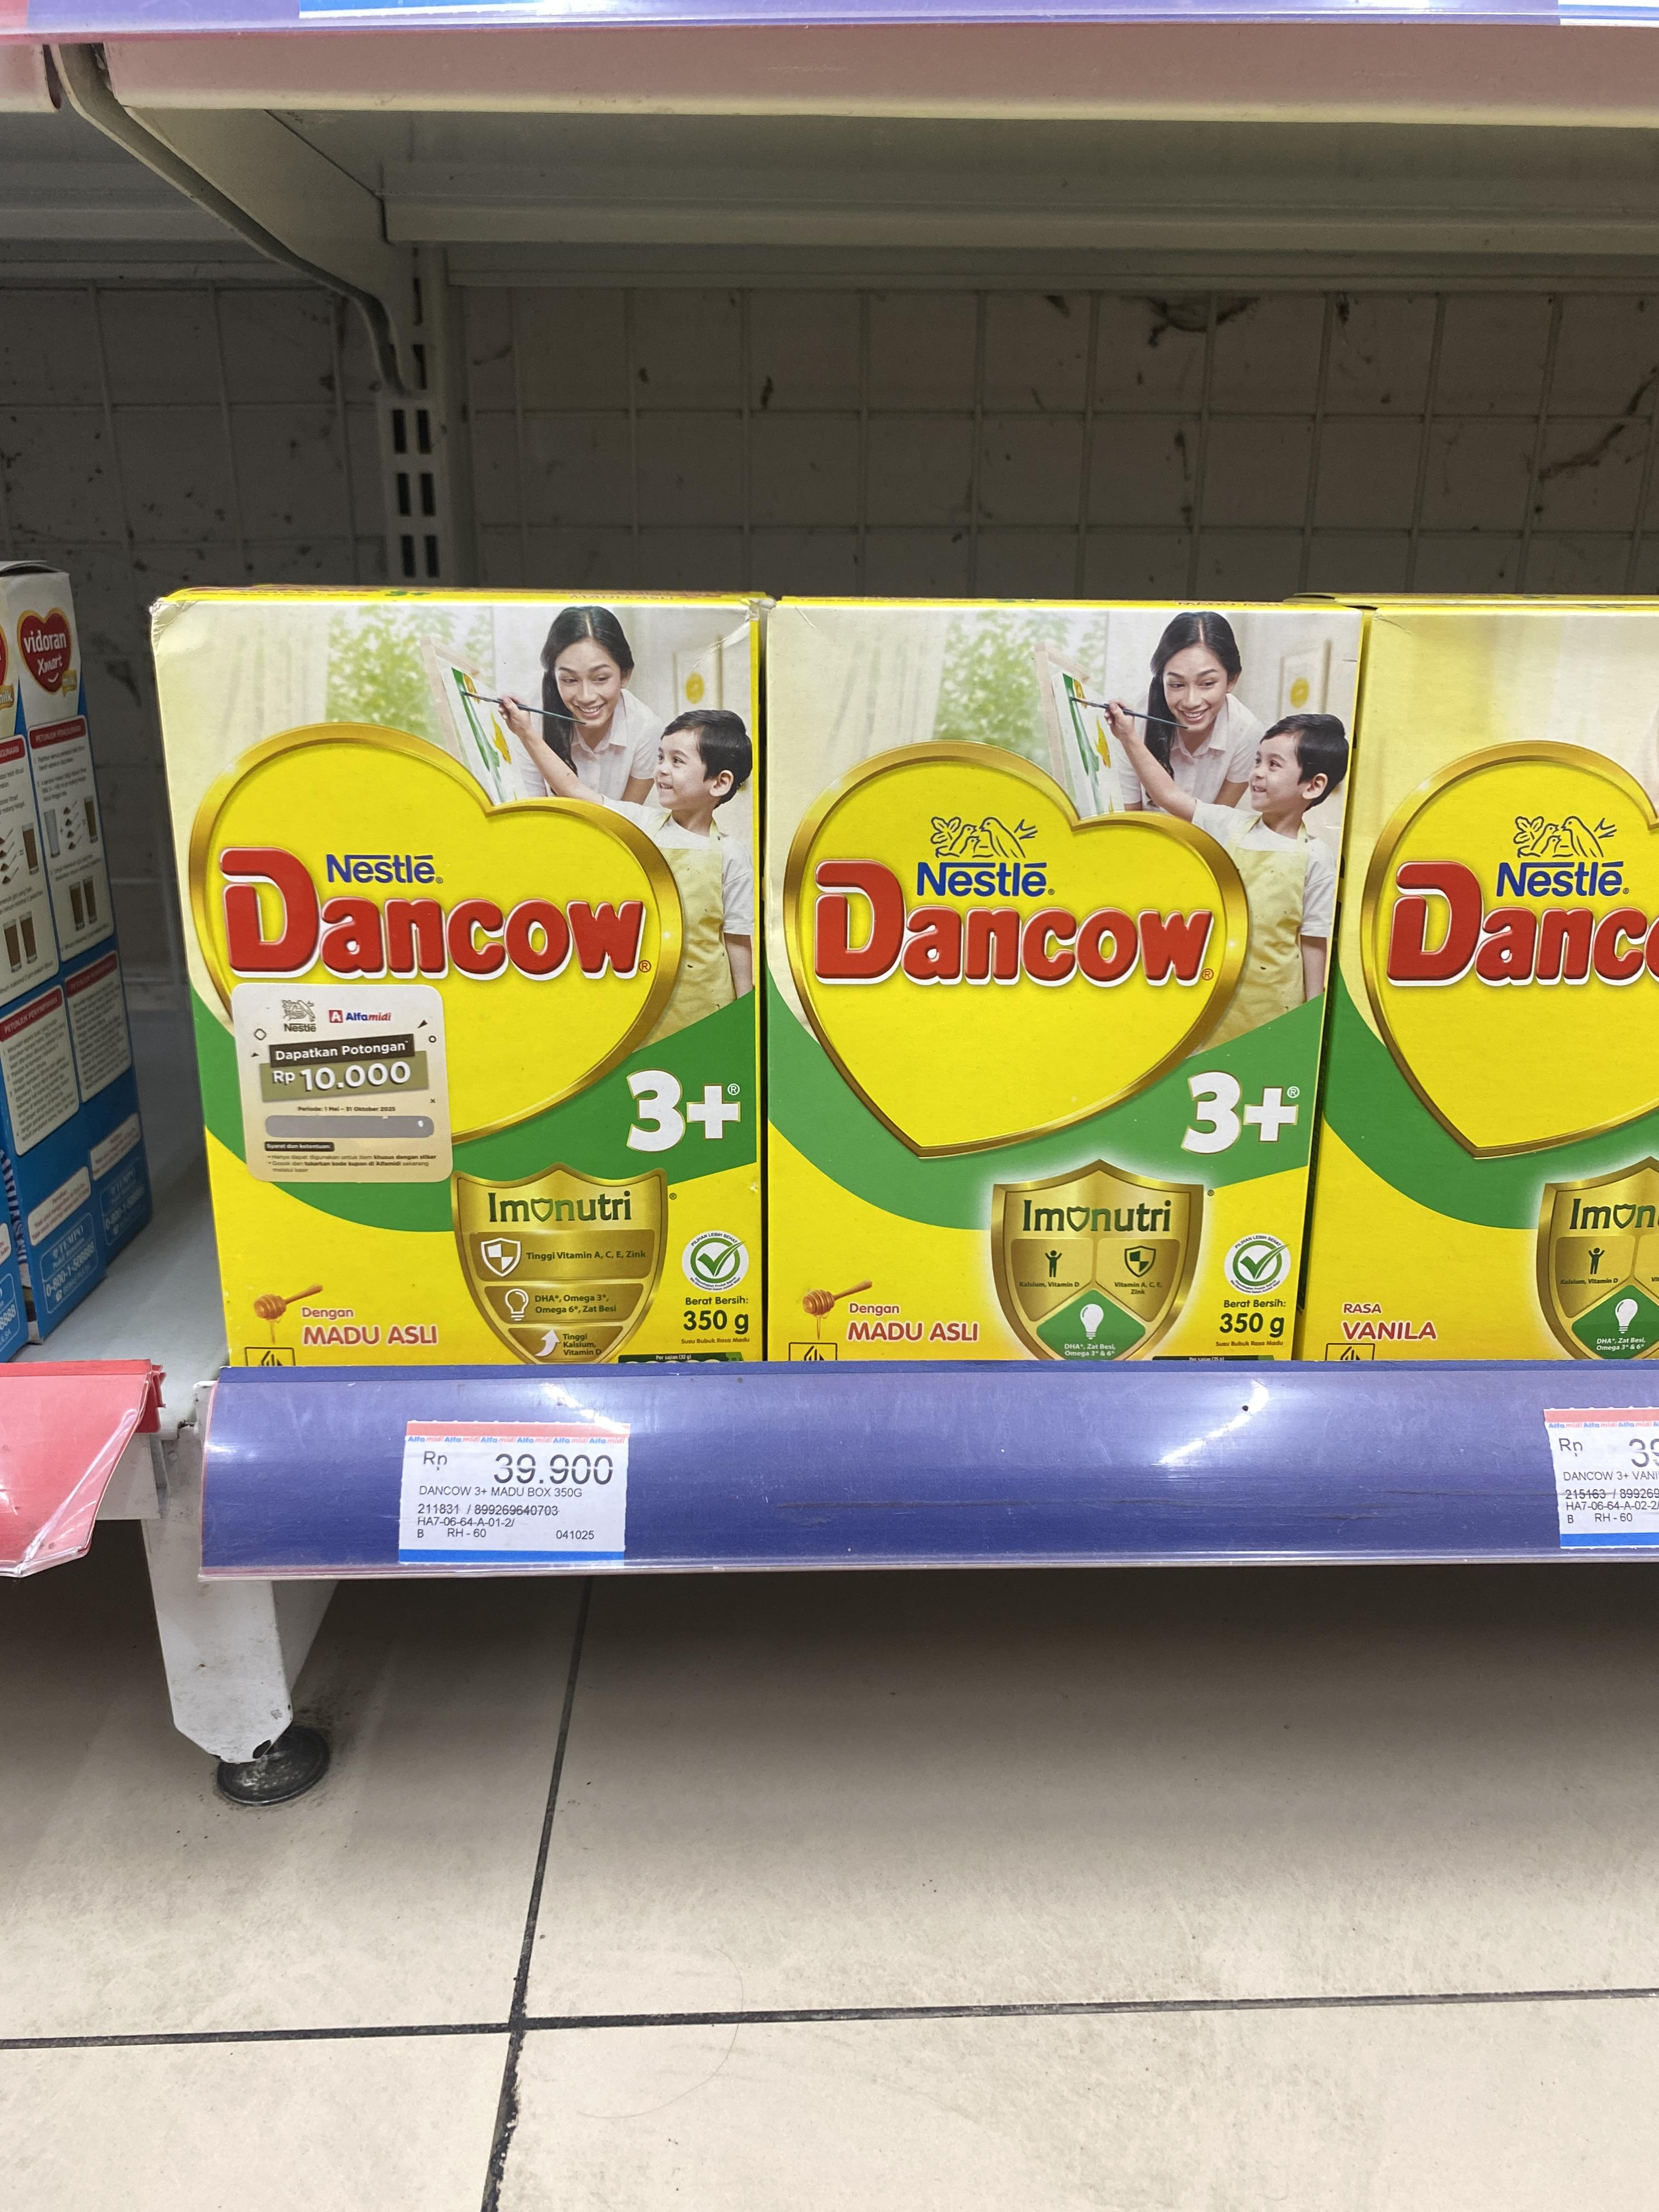DANCOW 3+ Madu Advn ExcNutr 24x400g ID_REDESIGN3: (225, 603, 765, 1364), (765, 601, 1305, 1359)
